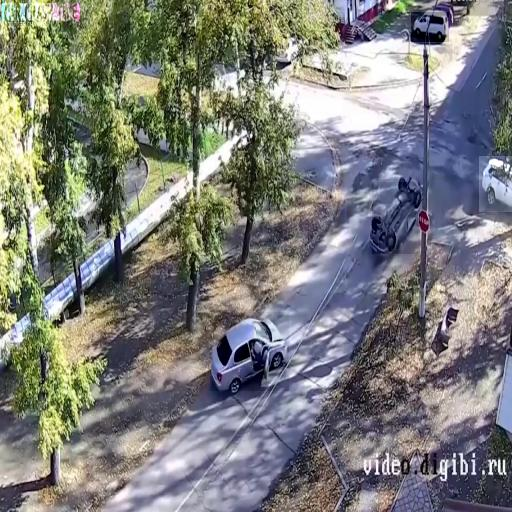小汽车: (210, 312, 289, 391), (372, 182, 420, 254), (479, 156, 512, 212), (411, 12, 449, 42)
